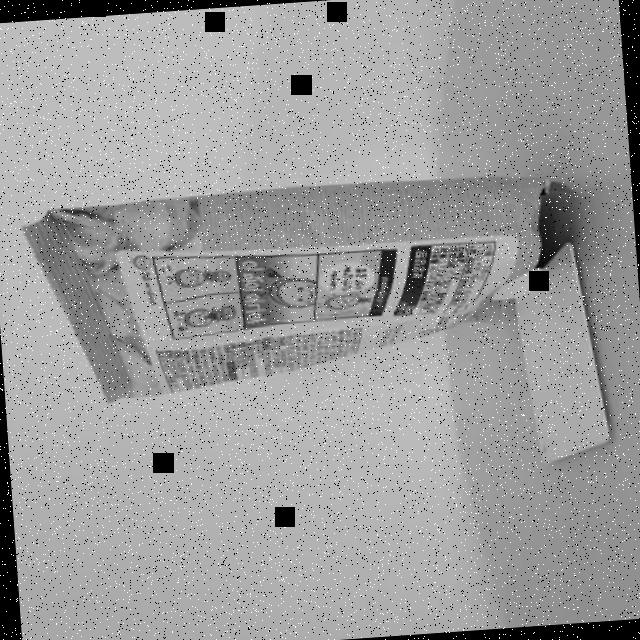snack_bag: (4, 145, 606, 425)
